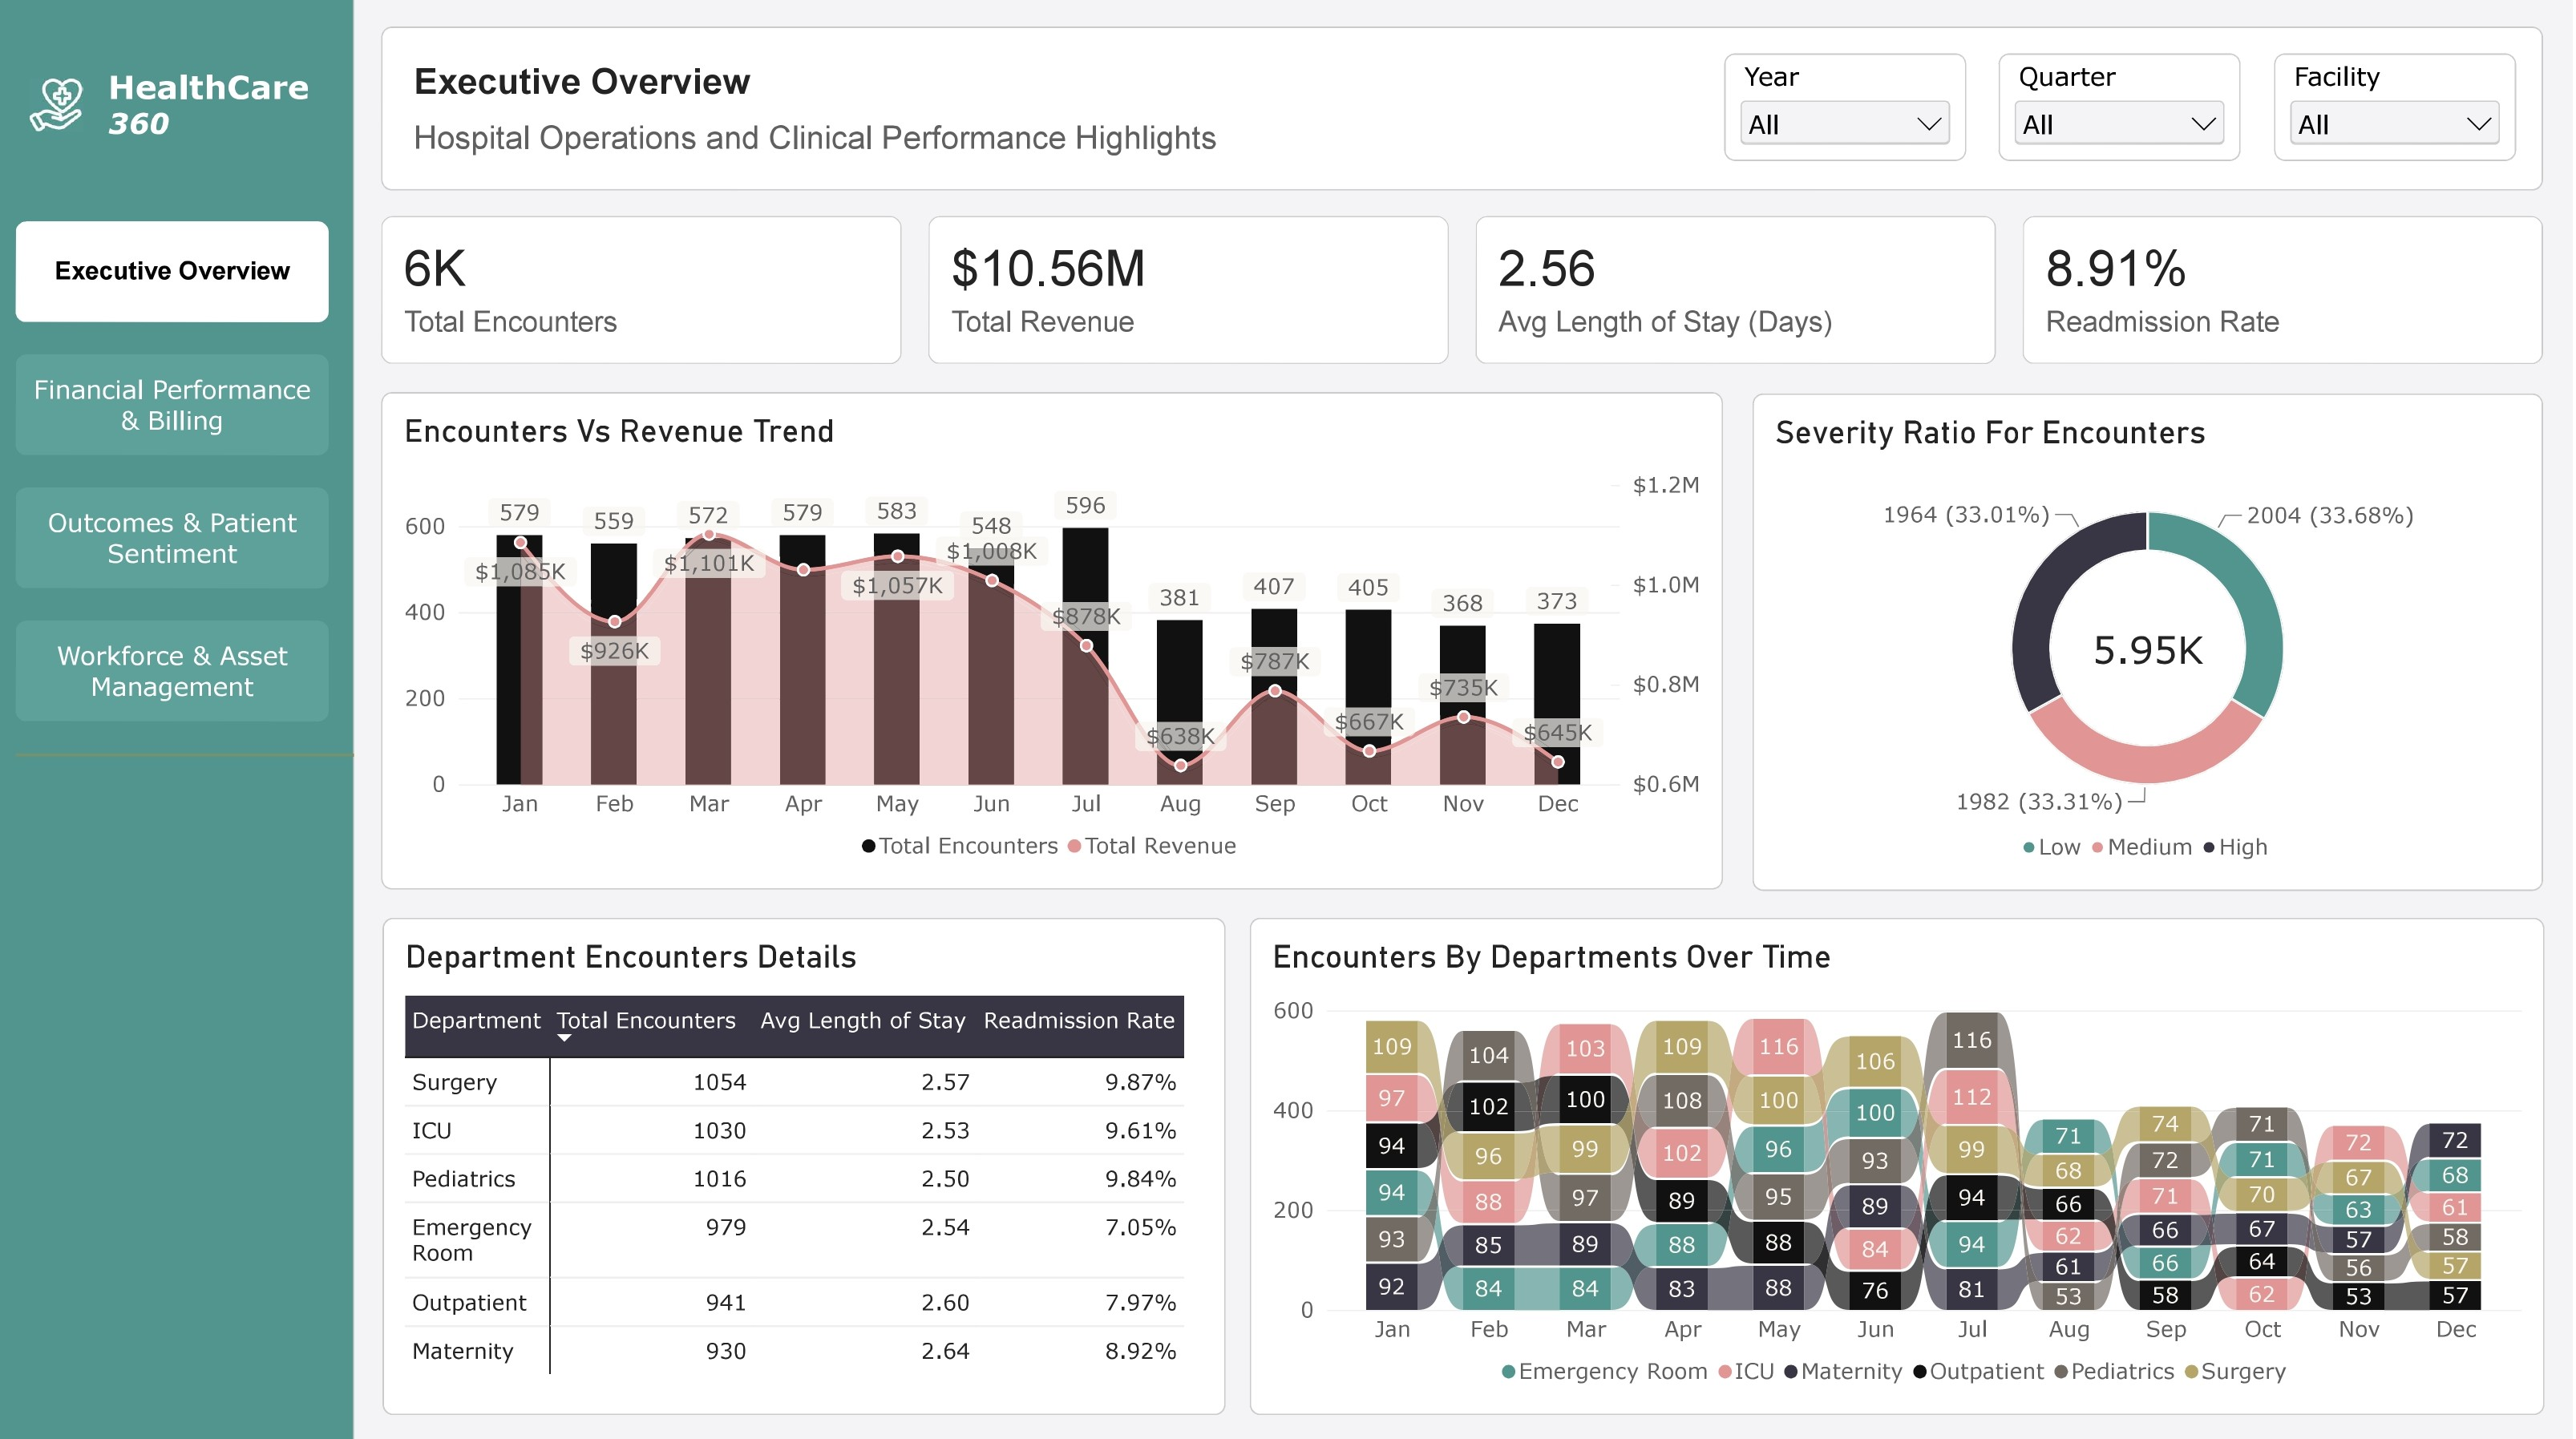

The page's visual inventory and layout, read from the dashboard file:
{"tool":"powerbi","page":{"name":"Executive Overview","canvas":[1920,1080],"ordinal":0},"visuals":[{"type":"shape","box":[290,22.5,1607.5,122.5],"z":0},{"type":"textbox","box":[86.4,53.2,168.1,79.5],"z":0,"group":"g1"},{"type":"shape","box":[0,0,270,1080],"z":1000},{"type":"group","id":"g1","title":"Group 1","box":[86.4,53.2,168.1,79.5],"z":2000,"group":"g2"},{"type":"cardVisual","fields":{"Data":["_Measures.Total Encounters","_Measures.Total Revenue","_Measures.Avg Length of Stay","_Measures.Readmission Rate"]},"box":[290,163.8,1610,110],"z":2000},{"type":"lineClusteredColumnComboChart","title":"Encounters Vs Revenue Trend","fields":{"Category":["Dim_Date.MonthName"],"Y":["_Measures.Total Encounters"],"Y2":["_Measures.Total Revenue"]},"box":[290,295,997.5,370],"z":3000},{"type":"shape","box":[17.7,540,252.3,50],"z":5000},{"type":"textbox","box":[314.2,49.4,300,42.5],"z":7000},{"type":"textbox","box":[314,92,622,44],"z":8000},{"type":"slicer","fields":{"Values":["Dim_Date.Year"]},"box":[1288.5,43.3,180,80],"z":9000},{"type":"slicer","fields":{"Values":["Dim_Date.Quarter"]},"box":[1493,43.3,180,80],"z":10000},{"type":"slicer","fields":{"Values":["Dim_Facilities.FacilityName"]},"box":[1697.5,43.3,180,80],"z":11000},{"type":"pivotTable","title":"Department Encounters Details","fields":{"Rows":["Dim_Departments.DepartmentName"],"Values":["_Measures.Total Encounters","_Measures.Avg Length of Stay","_Measures.Readmission Rate"]},"box":[290.7,685.9,626.9,370.2],"z":13000},{"type":"donutChart","title":"Severity Ratio For Encounters","fields":{"Category":["Dim_Diagnosis.Severity"],"Y":["_Measures.Total Encounters"]},"box":[1310,295.5,588,370],"z":14000},{"type":"ribbonChart","title":"Encounters By Departments Over Time","fields":{"Category":["Dim_Date.MonthName"],"Series":["Dim_Departments.DepartmentName"],"Y":["_Measures.Total Encounters"]},"box":[935.8,685.9,963,370.2],"z":15000},{"type":"pageNavigator","box":[18.2,168.1,233.9,372.5],"z":15001},{"type":"group","id":"g2","title":"Group 2","box":[18.8,53.2,235.6,79.5],"z":15002},{"type":"image","box":[18.8,62.3,59.1,38.6],"z":16000,"group":"g2"}]}

Visuals, with their boxes on the page's 1920x1080 design canvas (x1, y1, x2, y2). These are canvas units, not pixel positions in the 2576x1439 screenshot, which may show the page scaled, cropped or inside an application window:
shape: l=290, t=22, r=1898, b=145
textbox: l=86, t=53, r=254, b=133
shape: l=0, t=0, r=270, b=1080
"Group 1" group: l=86, t=53, r=254, b=133
cardVisual - _Measures.Total Encounters x _Measures.Total Revenue: l=290, t=164, r=1900, b=274
"Encounters Vs Revenue Trend" lineClusteredColumnComboChart: l=290, t=295, r=1288, b=665
shape: l=18, t=540, r=270, b=590
textbox: l=314, t=49, r=614, b=92
textbox: l=314, t=92, r=936, b=136
slicer - Dim_Date.Year: l=1288, t=43, r=1468, b=123
slicer - Dim_Date.Quarter: l=1493, t=43, r=1673, b=123
slicer - Dim_Facilities.FacilityName: l=1698, t=43, r=1878, b=123
"Department Encounters Details" pivotTable: l=291, t=686, r=918, b=1056
"Severity Ratio For Encounters" donutChart: l=1310, t=296, r=1898, b=666
"Encounters By Departments Over Time" ribbonChart: l=936, t=686, r=1899, b=1056
pageNavigator: l=18, t=168, r=252, b=541
"Group 2" group: l=19, t=53, r=254, b=133
image: l=19, t=62, r=78, b=101
